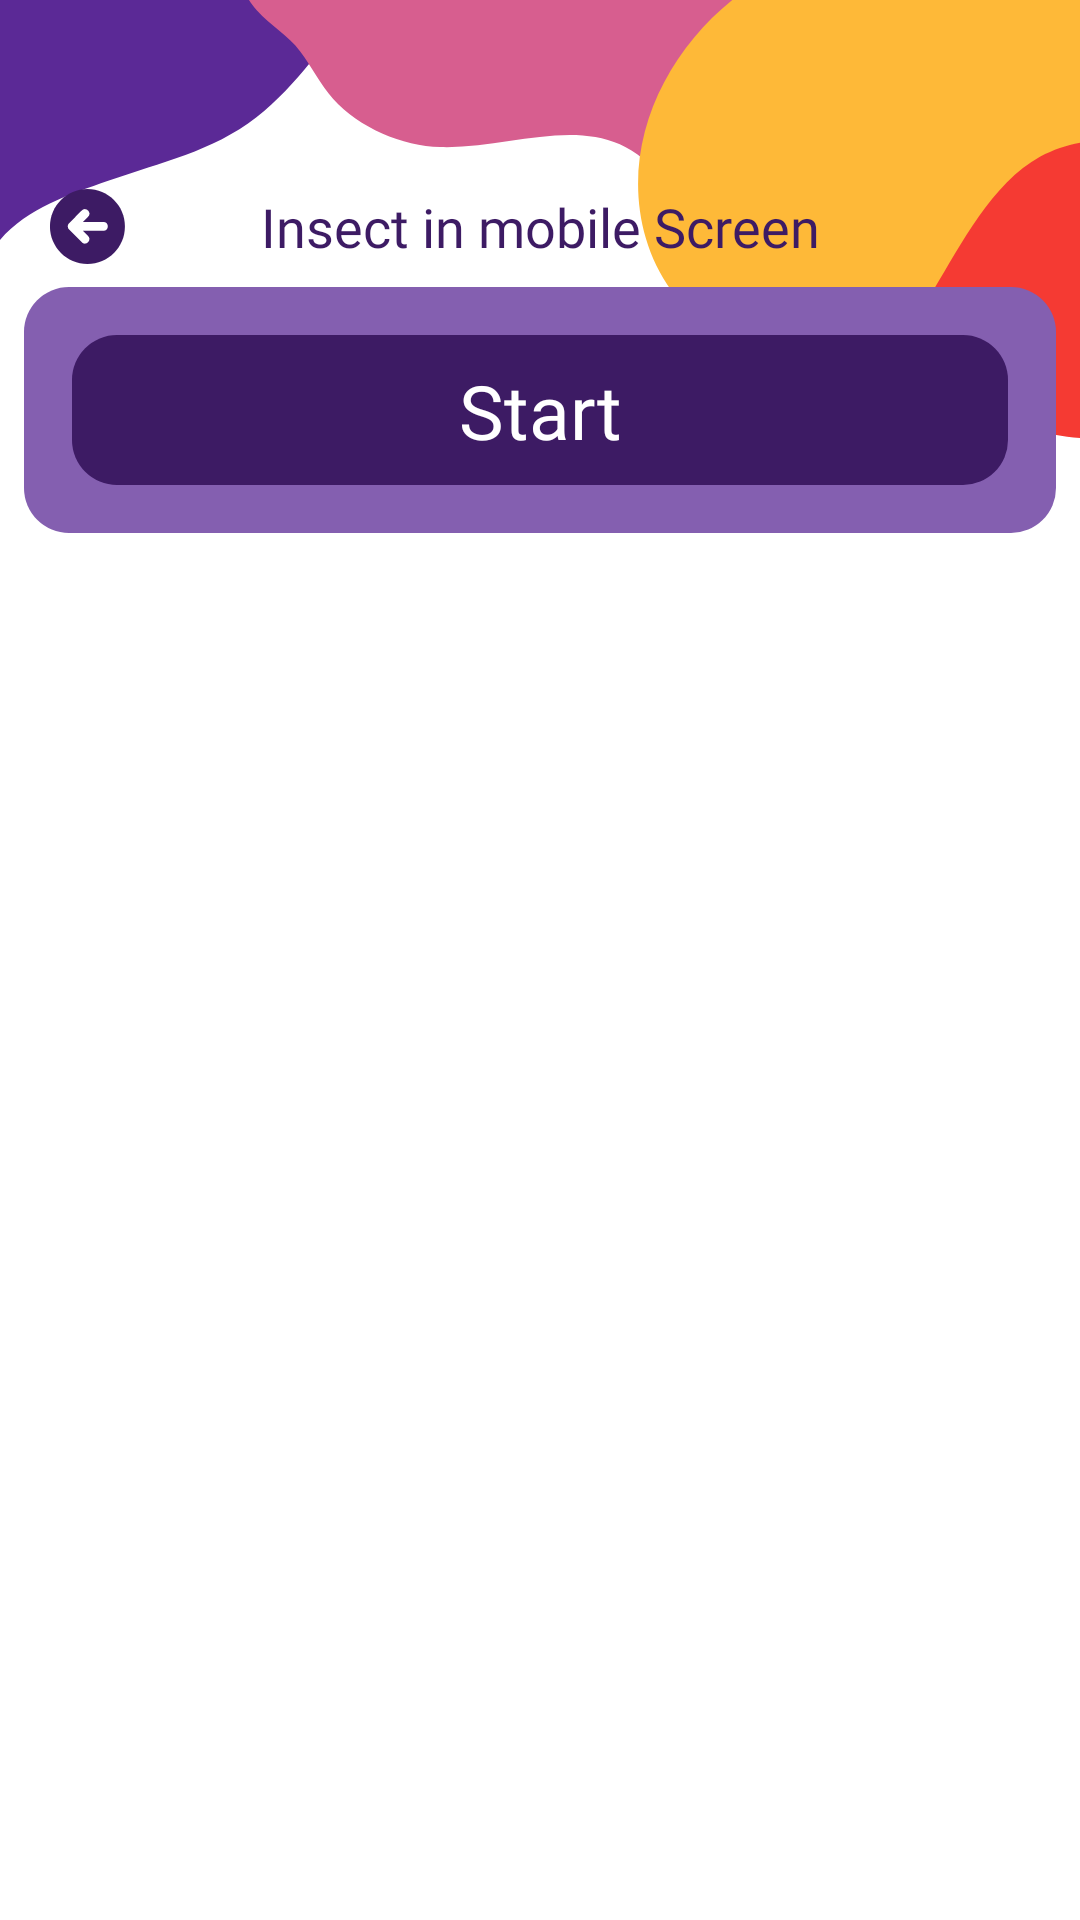

Icons on this 1080 × 1920 Android screen, each with its box as (x1, y1, x2, y2):
back: (48, 189, 125, 264)
